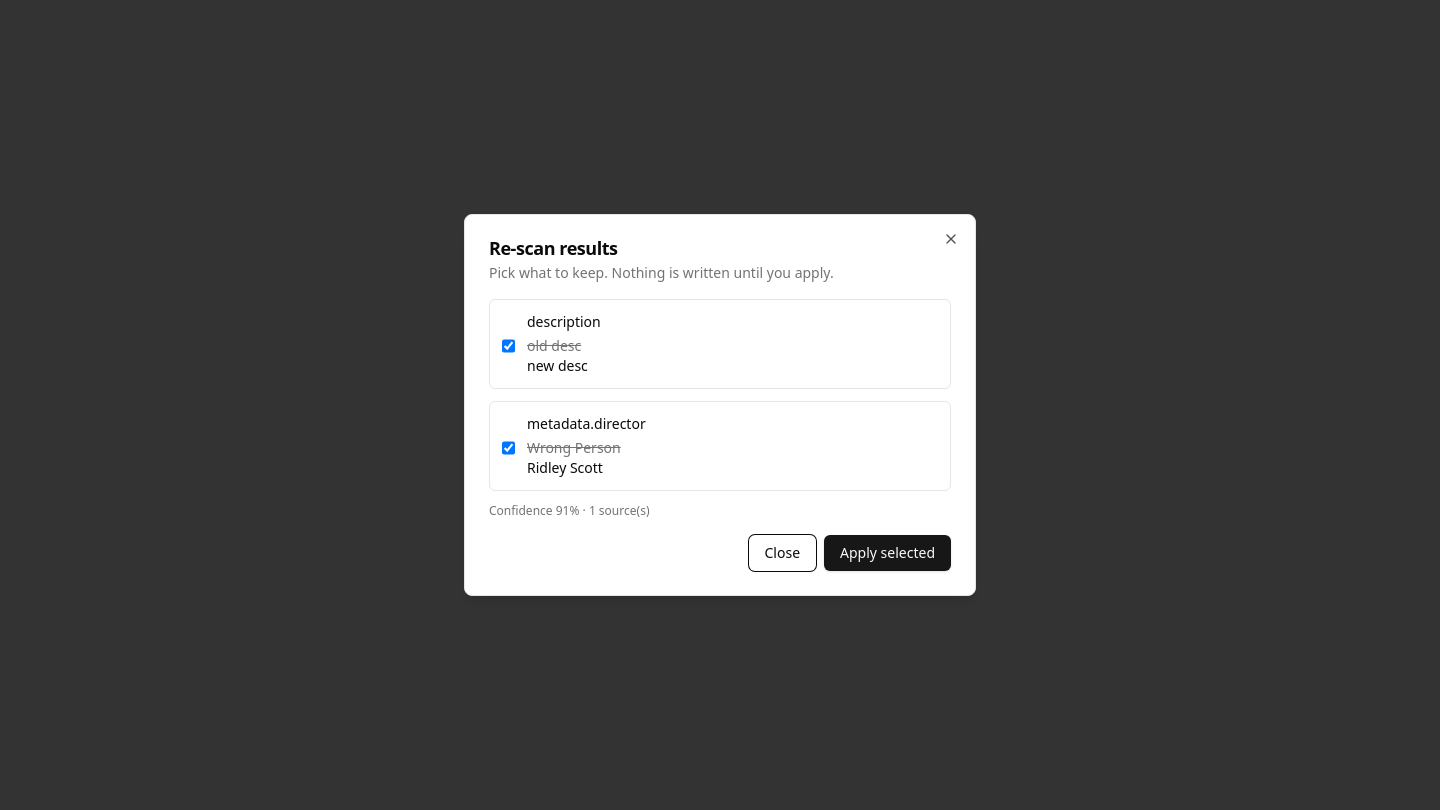
Test case: RescanDiff › disables apply when nothing is selected
The image size is (1440, 810).
Click the checkbox labelled "description old desc new desc" at (508, 346), box [502,316,515,376]
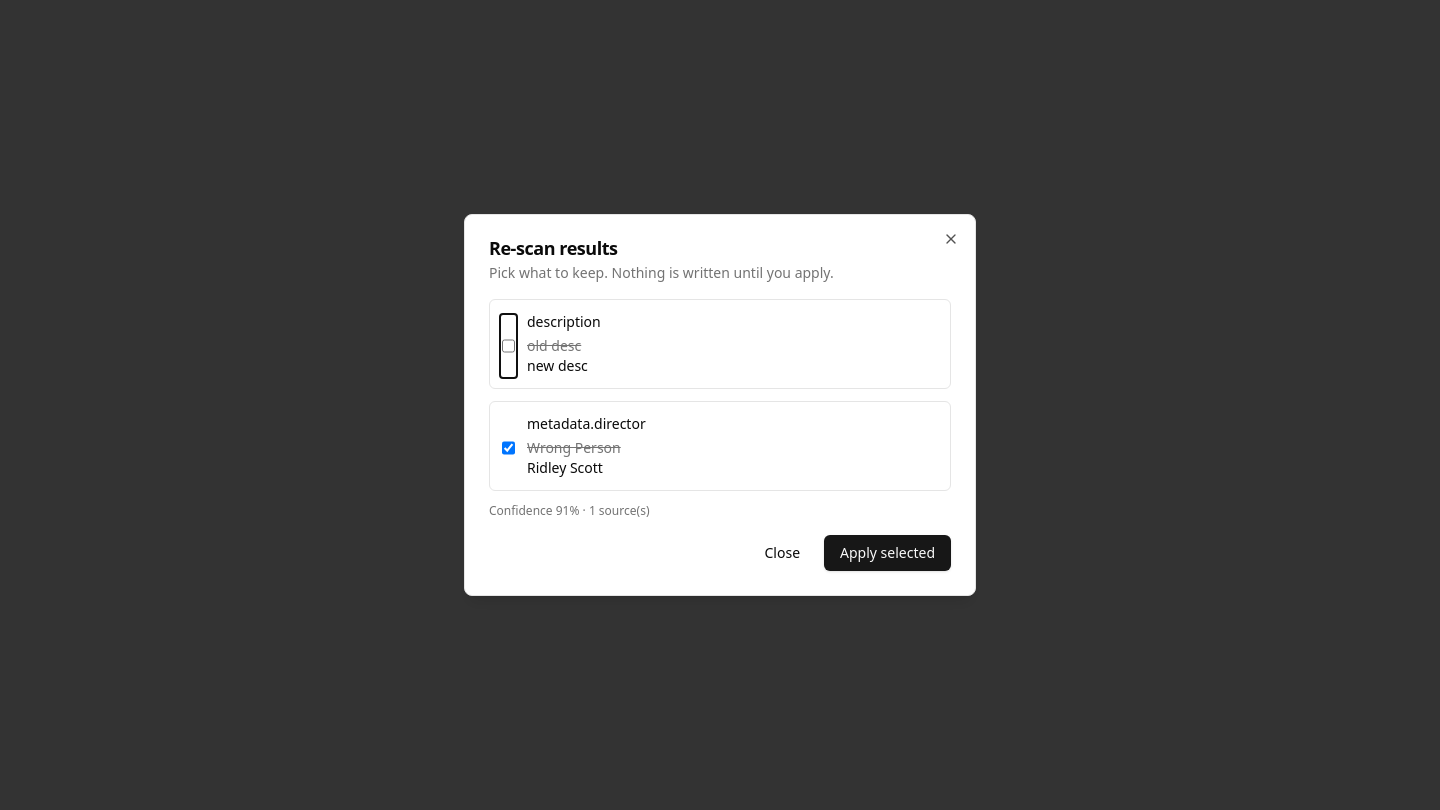
Click the checkbox labelled "metadata.director Wrong Person Ridley Scott" at (508, 448), box [502,418,515,478]
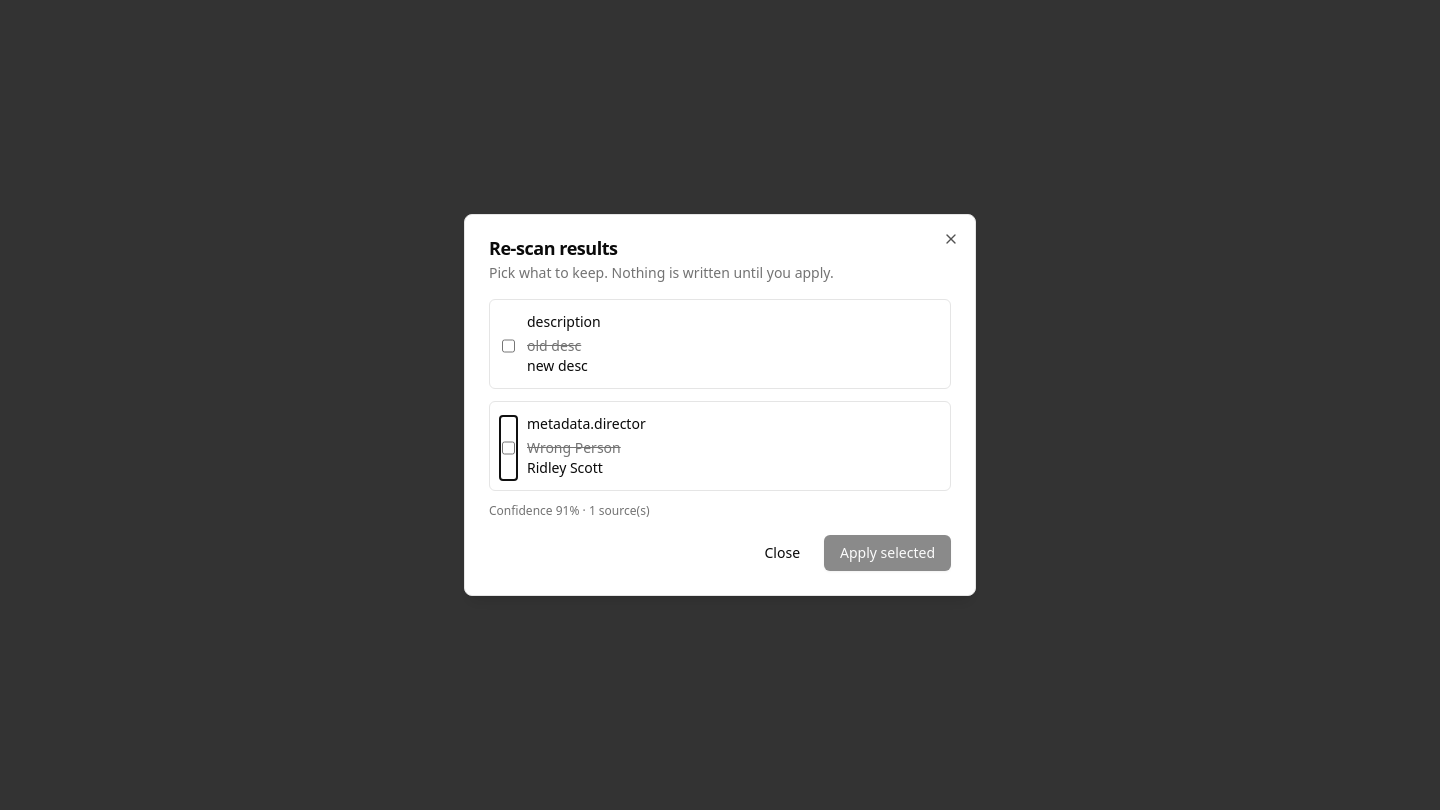
Check: the button "Apply selected" is disabled, box [824,535,951,571]
